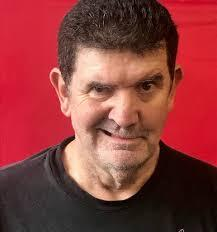strokeEyeWeak: (82, 71, 167, 103)
strokeMouthMid: (89, 125, 150, 150)
